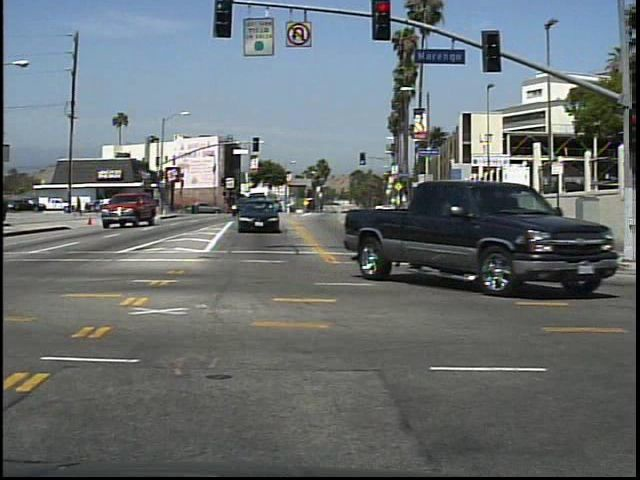person: (74, 195, 87, 219)
